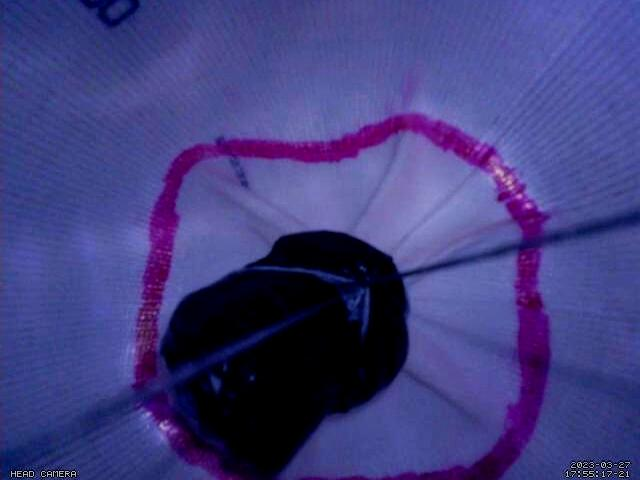red-circle: (130, 112, 552, 480)
